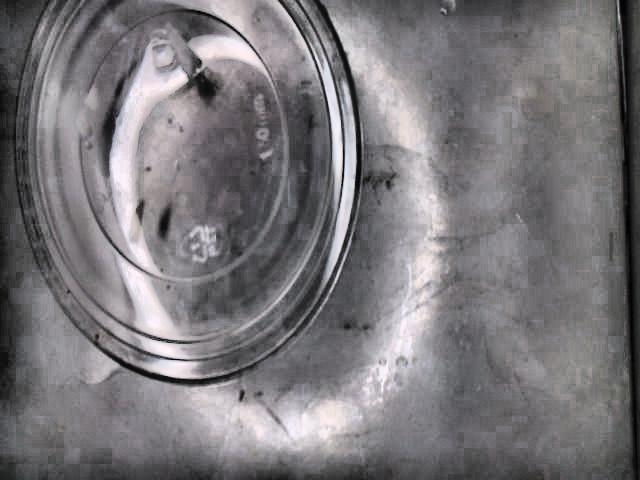Plastic: (14, 0, 365, 386)
